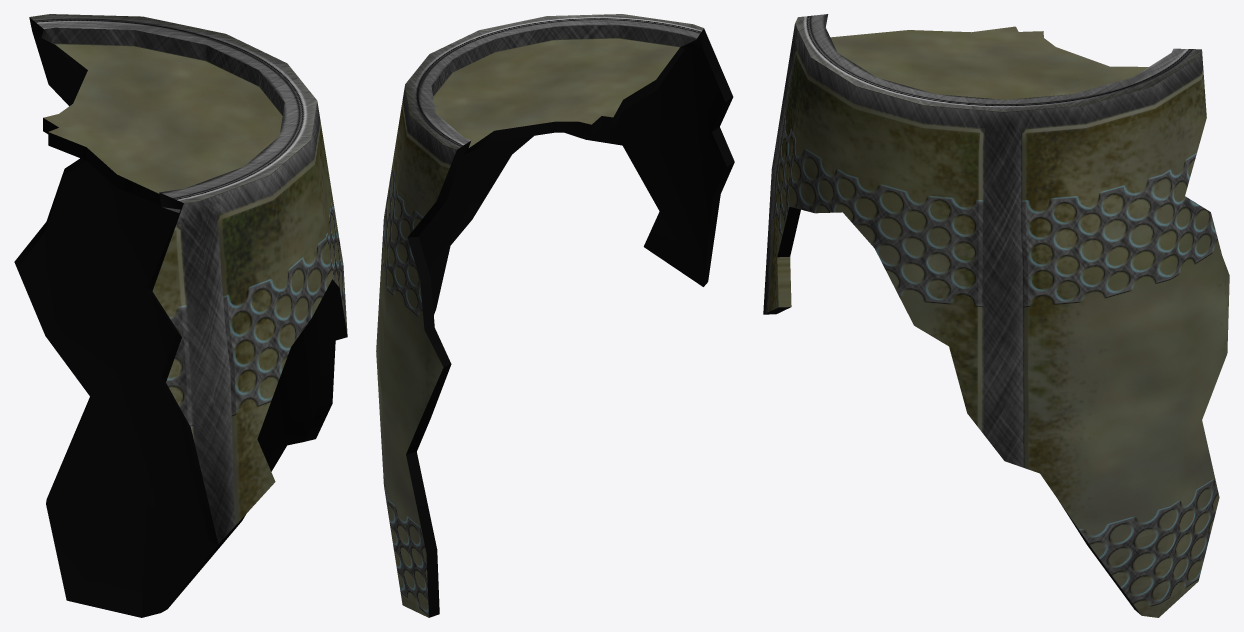
File: Barrel_Fire_Explode_4of5.FBX
3 views of the same model, side by side, from view 1: azimuth 30°, elevation 25°; view 2: azimuth 150°, elevation 25°; view 3: azimuth 270°, elevation 25° (orthographic). The views are drawn at different scales.
Visible parts, largest first — view 1: Barrel_Fire_Shard4; view 2: Barrel_Fire_Shard4; view 3: Barrel_Fire_Shard4.
Boxes of the visible parts, box(x1,y1,x2,y2) form: Barrel_Fire_Shard4: box(14, 14, 347, 617); Barrel_Fire_Shard4: box(376, 14, 734, 617); Barrel_Fire_Shard4: box(763, 14, 1229, 617).
Size of the model in its own units: 0.5057 by 0.8117 by 1.02.
Materials: 1 (1 with a texture image).
